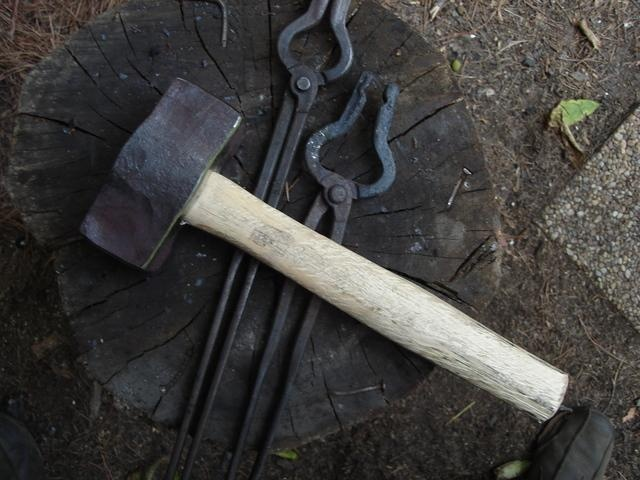hammer: (74, 75, 572, 428)
